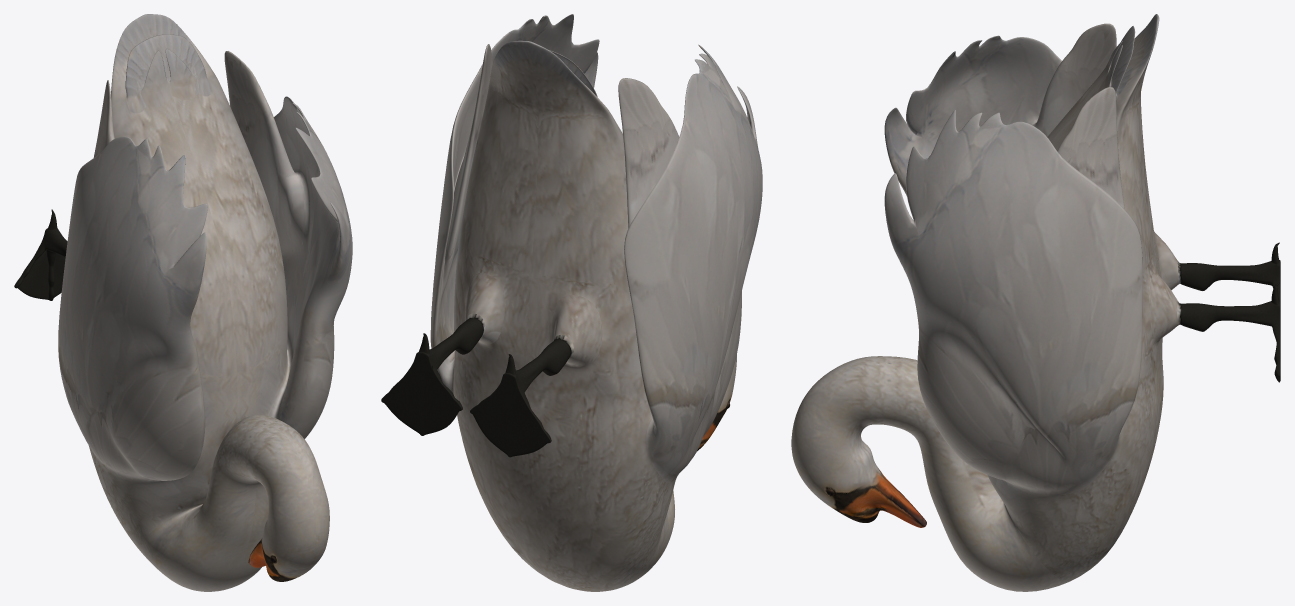
Rendered from swan.glb.
The picture shows the model from 3 angles, left to right: view 1: azimuth 30°, elevation 25°; view 2: azimuth 150°, elevation 25°; view 3: azimuth 270°, elevation 25°; orthographic projection. The views are drawn at different scales.
Visible parts, largest first — view 1: swan; view 2: swan; view 3: swan.
Boxes of the visible parts, x1,y1,x2,y2 form: swan: (14, 14, 352, 591); swan: (381, 14, 762, 591); swan: (791, 14, 1280, 591).
Bounding box in the file's own units: 36.51 × 77.7 × 60.65.
1 material, 1 textured.
